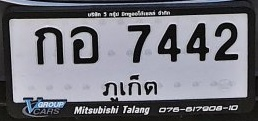txt01: (33, 26, 66, 67)
txt38: (68, 25, 99, 67)
